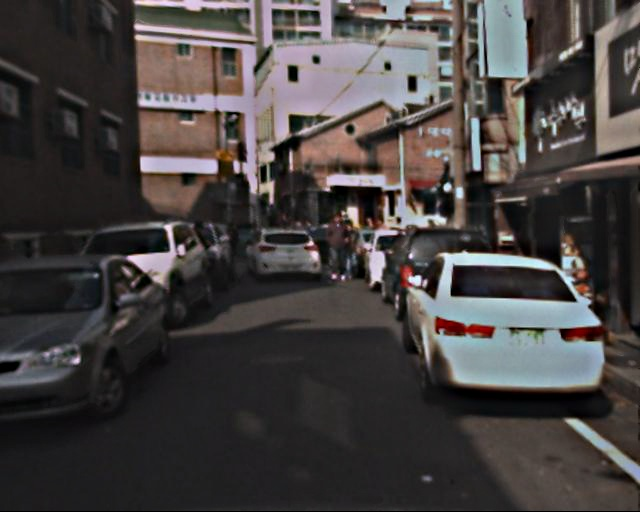person: (323, 213, 350, 280), (339, 221, 363, 280)
